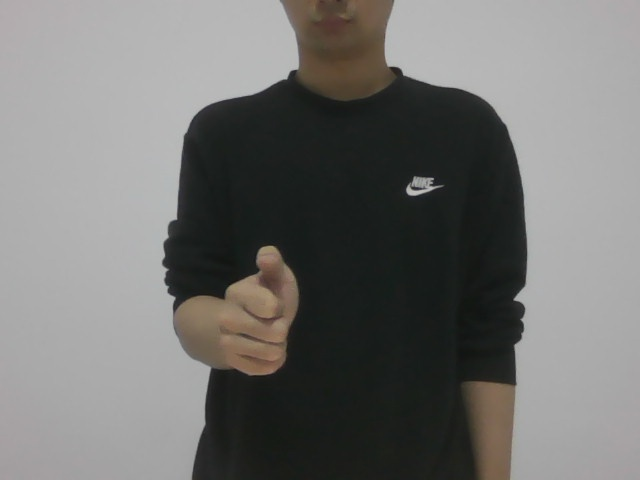thank you: (216, 238, 306, 382)
